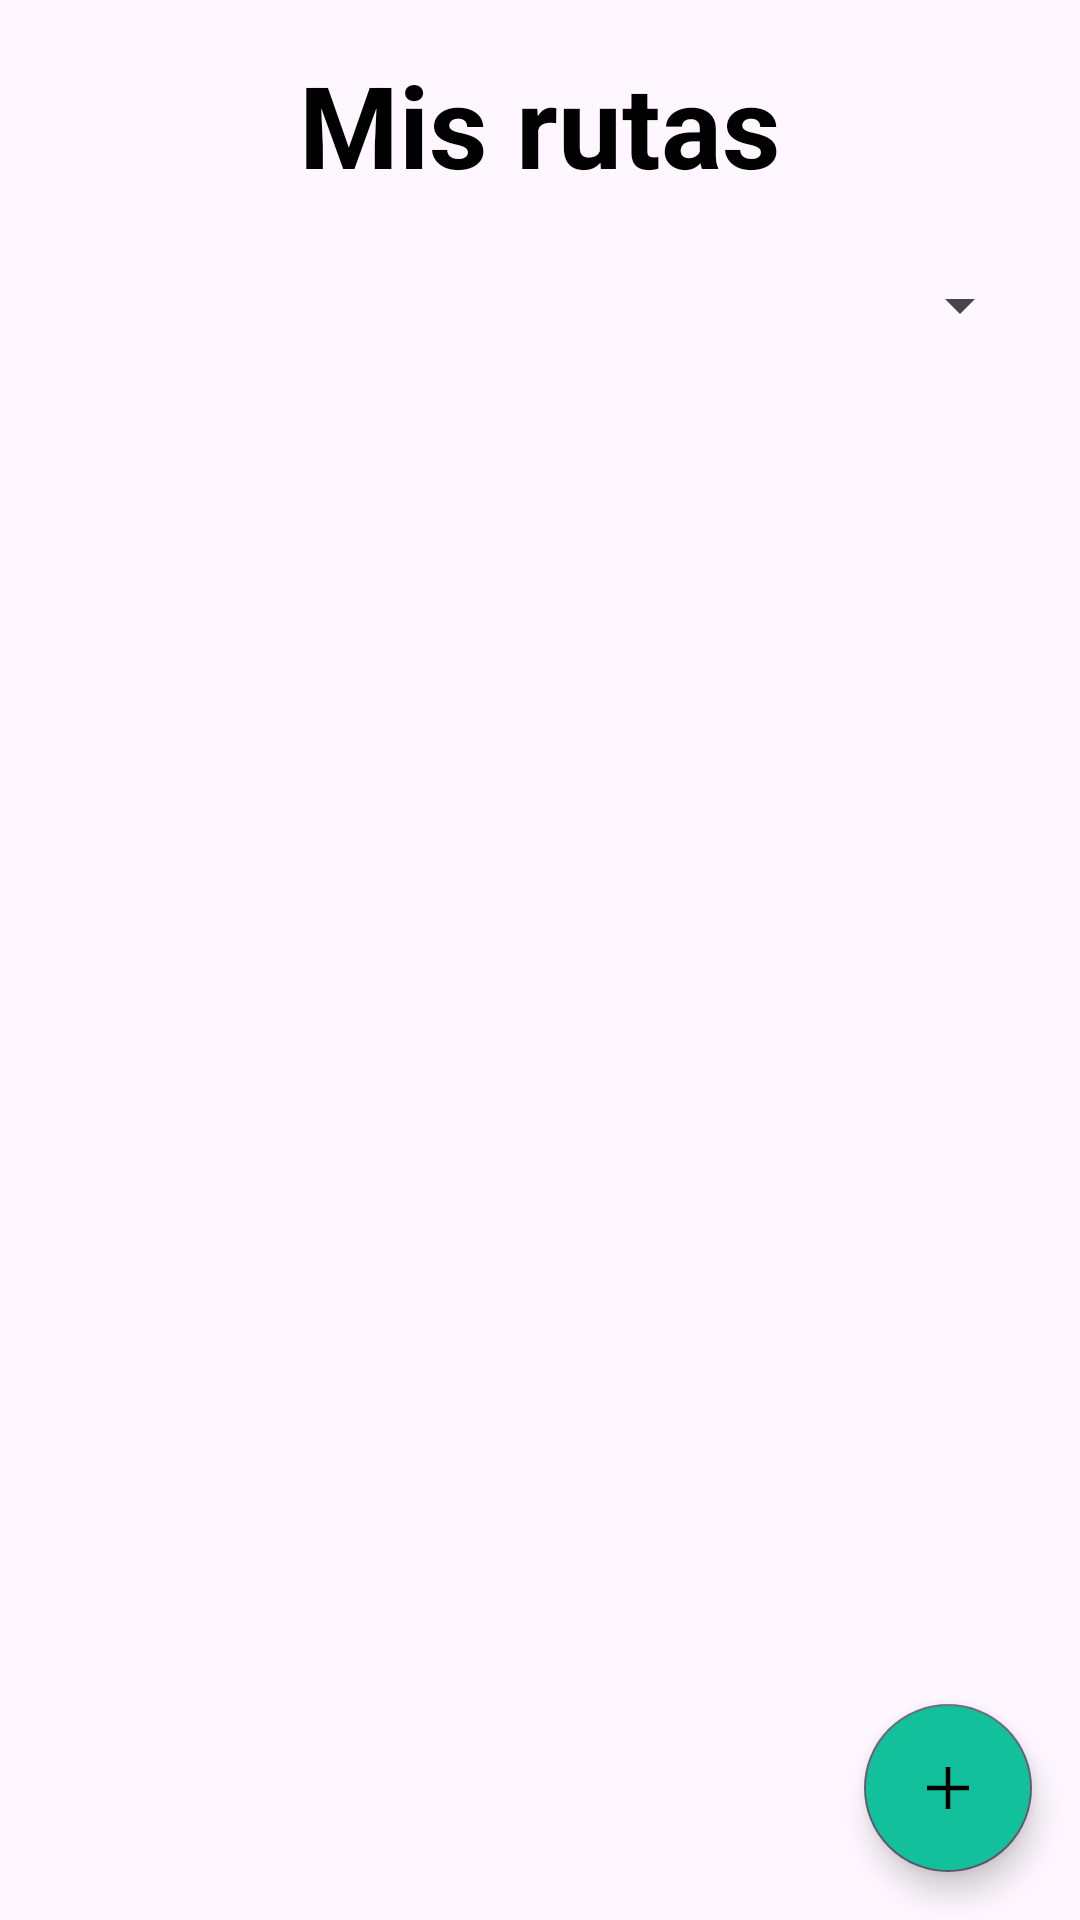

Icon click points for this 1080*1920 phone screenshot, format [x,y]:
Nueva ruta: [948,1788]
